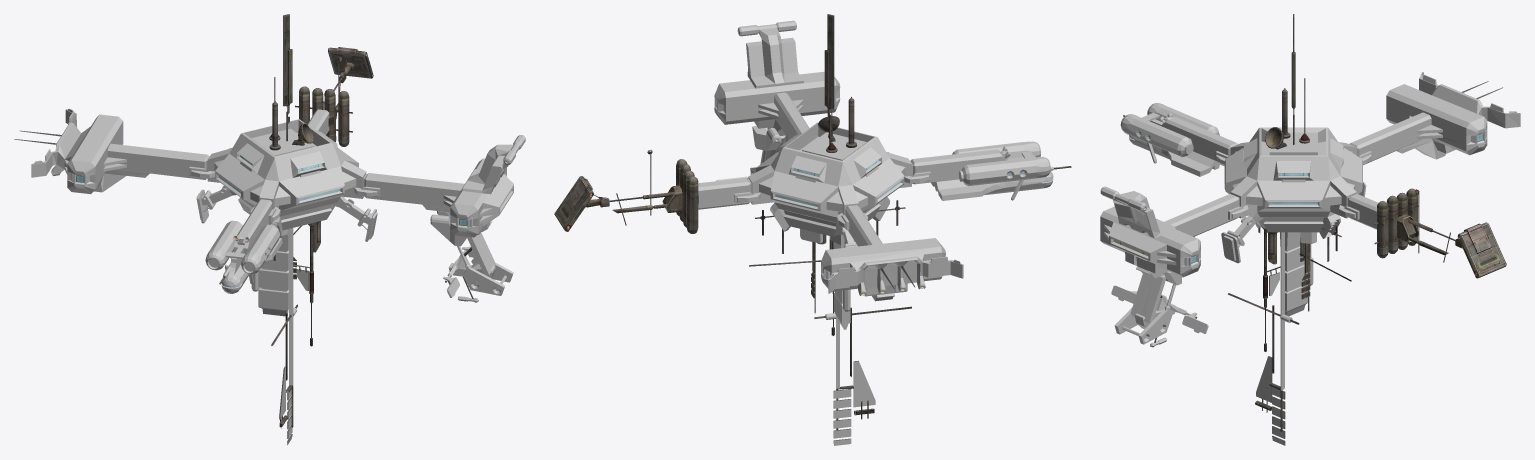
Rendered from spacestation_outpost_rebel_s01_l0.fbx.
3 views of the same model, side by side, from view 1: azimuth 30°, elevation 25°; view 2: azimuth 150°, elevation 25°; view 3: azimuth 270°, elevation 25° (orthographic). The views are drawn at different scales.
Visible parts, largest first — view 1: mesh_node; view 2: mesh_node; view 3: mesh_node.
Boxes of the visible parts, box(x1,y1,x2,y2) form: mesh_node: box(14, 14, 525, 445); mesh_node: box(554, 14, 1071, 445); mesh_node: box(1100, 14, 1520, 445).
Size of the model in its own units: 310 by 337 by 299.
